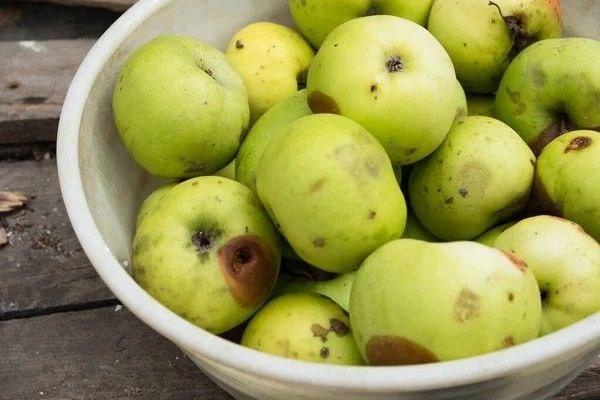Apple: (133, 176, 282, 334)
